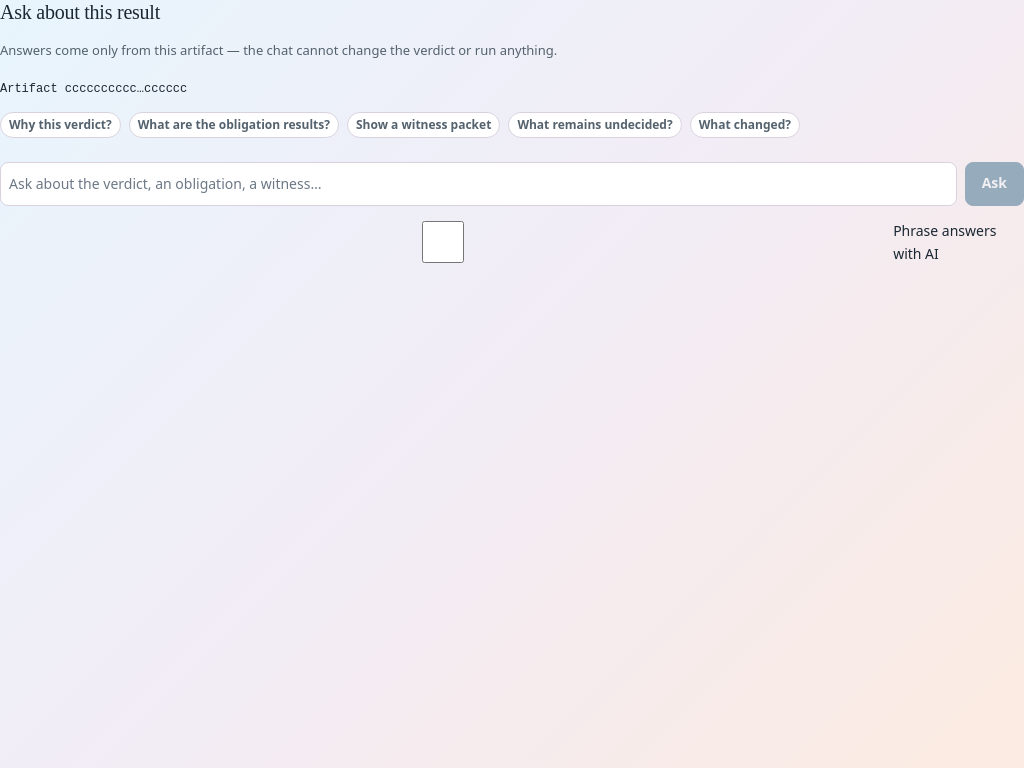
Test: P1-10 interrogation chat panel › answers with the deterministic text and its artifact facts
In the field with placeholder "Ask about the verdict, an obligation, a witness…": (478, 184) [0, 162, 957, 206], type "Why DIFFERENT?"
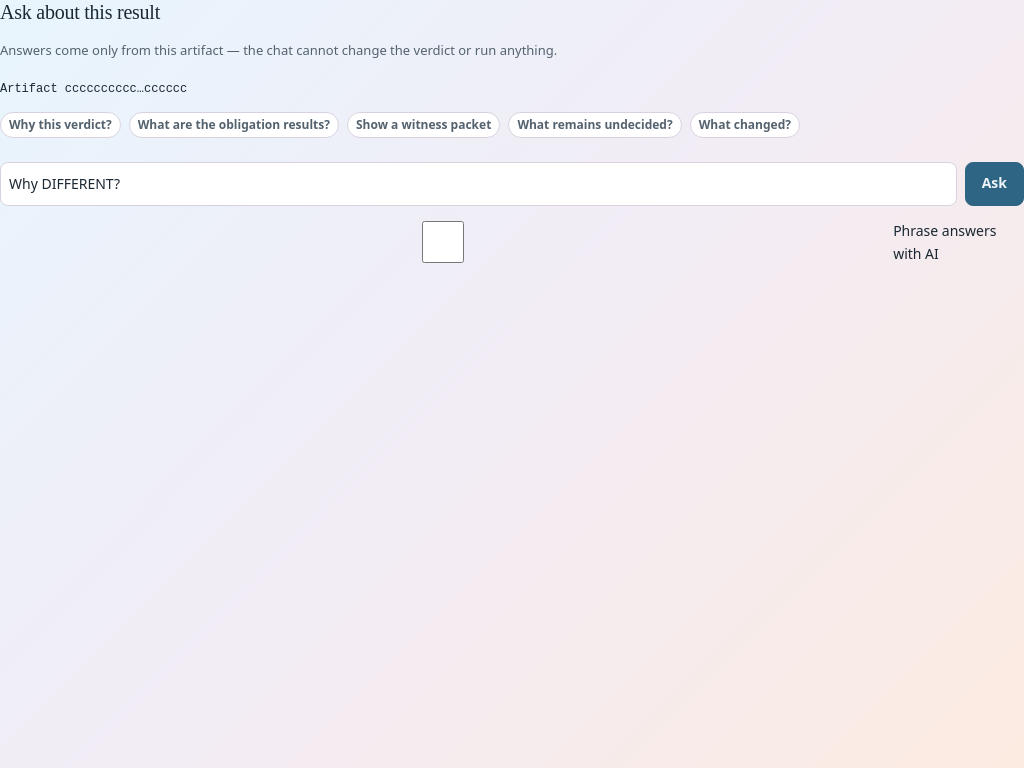
Click the button "Ask": (994, 184) [965, 162, 1023, 206]
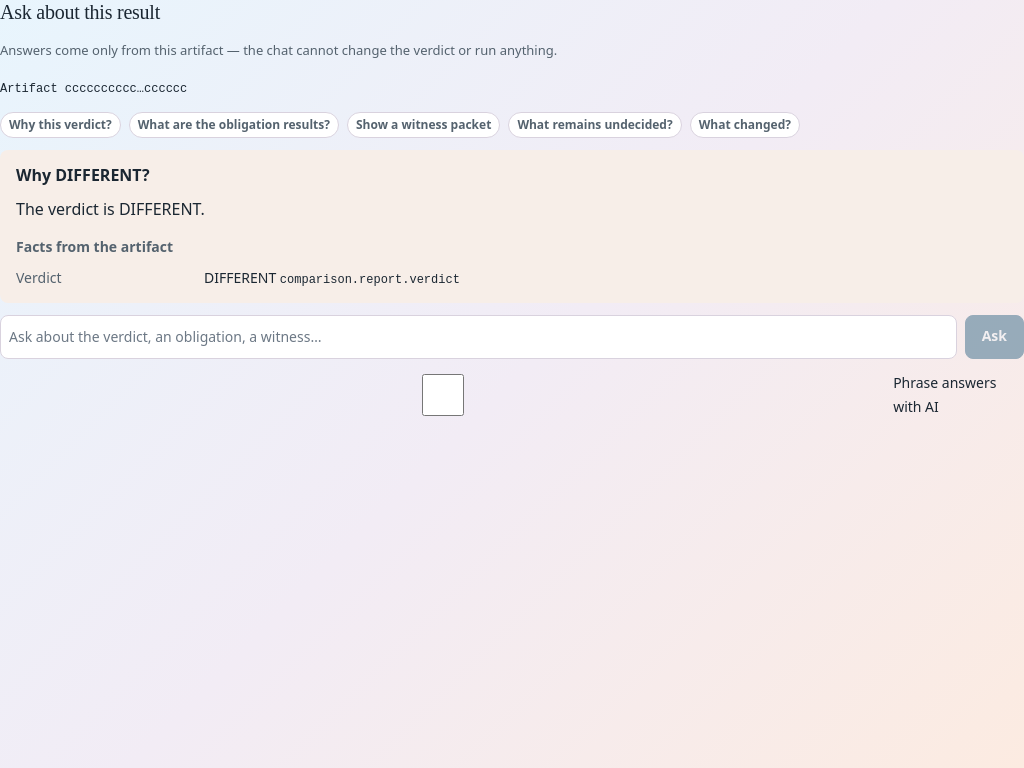
Check: the text "The verdict is DIFFERENT." is shown, box [16, 198, 205, 220]
Check: the text "comparison.report.verdict" is shown, box [280, 273, 460, 287]
